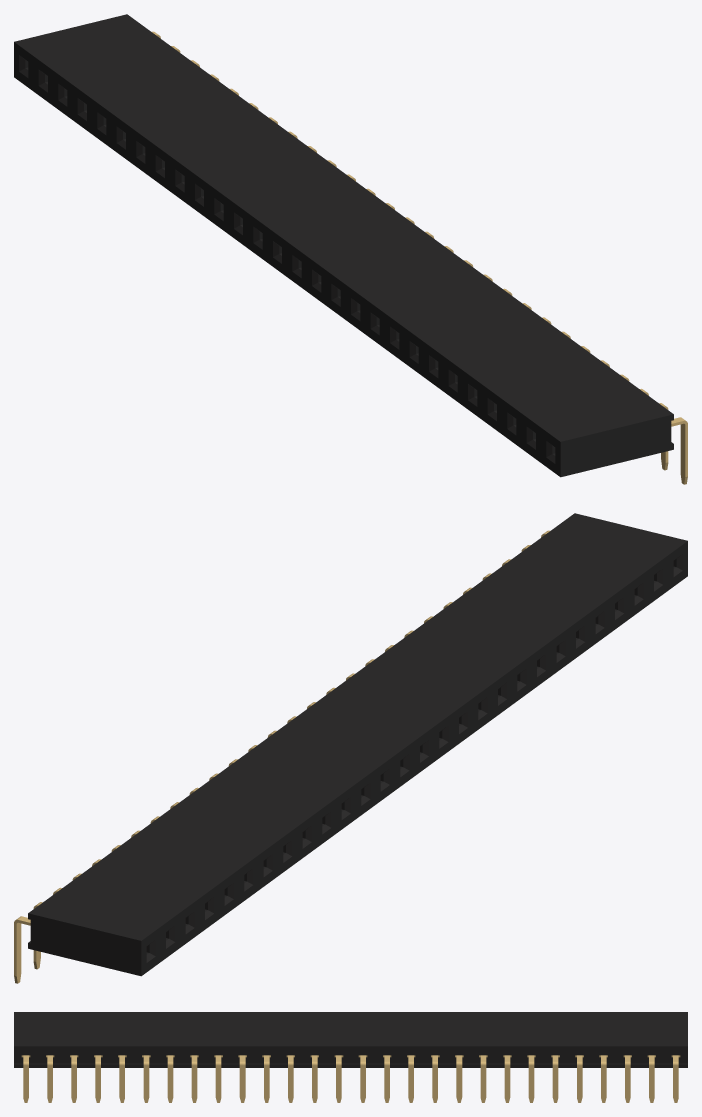
File: kc-pinsocket_1x28_p2.54mm_horizontal.glb
The picture shows the model from 3 angles, top to bottom: view 1: azimuth 30°, elevation 25°; view 2: azimuth 150°, elevation 25°; view 3: azimuth 270°, elevation 25°; orthographic projection. The views are drawn at different scales.
Visible parts, largest first — view 1: 0_0_0_0, 0.75_0.5_0.25_0.9; view 2: 0_0_0_0, 0.75_0.5_0.25_0.9; view 3: 0_0_0_0, 0.75_0.5_0.25_0.9.
Boxes of the visible parts, left/top/right/bottom form: 0_0_0_0: left=14, top=14, right=673, bottom=477; 0.75_0.5_0.25_0.9: left=152, top=31, right=687, bottom=484; 0_0_0_0: left=28, top=513, right=687, bottom=976; 0.75_0.5_0.25_0.9: left=14, top=530, right=549, bottom=983; 0_0_0_0: left=14, top=1012, right=687, bottom=1067; 0.75_0.5_0.25_0.9: left=21, top=1055, right=680, bottom=1102.
Size of the model in its own units: 1.01 by 0.5844 by 7.11.
